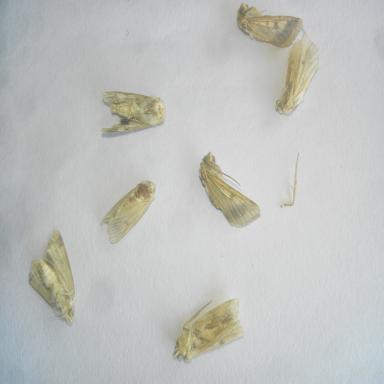abw: (169, 292, 250, 368), (22, 225, 79, 330), (196, 146, 263, 231), (93, 172, 158, 255), (271, 25, 326, 122), (97, 84, 170, 139), (232, 0, 308, 51)
